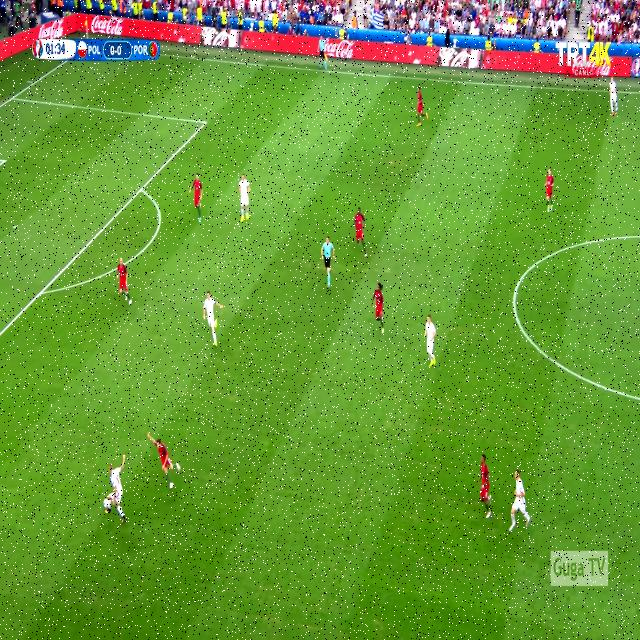TEAM 1: (149, 428, 184, 495), (476, 450, 496, 522), (188, 171, 208, 225), (352, 204, 370, 263), (115, 252, 134, 306), (372, 281, 390, 333), (542, 164, 556, 218), (414, 86, 430, 126)
TEAM 2: (102, 455, 132, 530), (506, 464, 533, 537), (202, 286, 225, 355), (422, 310, 440, 372), (602, 73, 625, 120), (236, 169, 254, 226)
